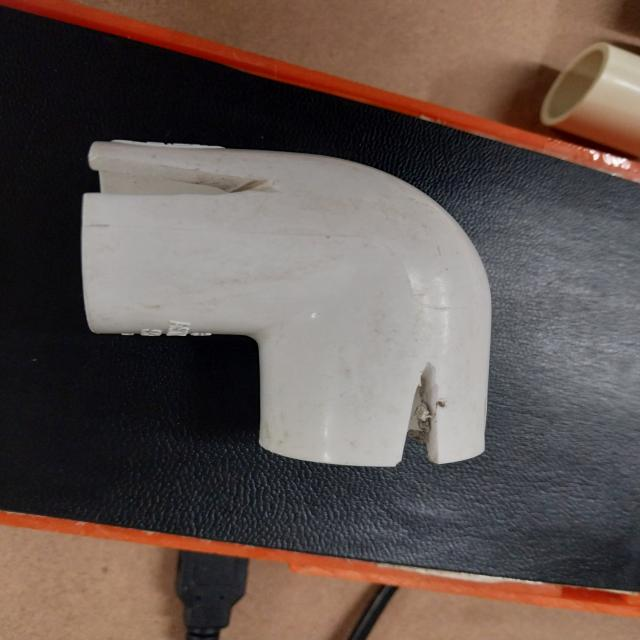Defective: (84, 142, 271, 197), (401, 371, 433, 468)
L Joint: (79, 141, 493, 471)
